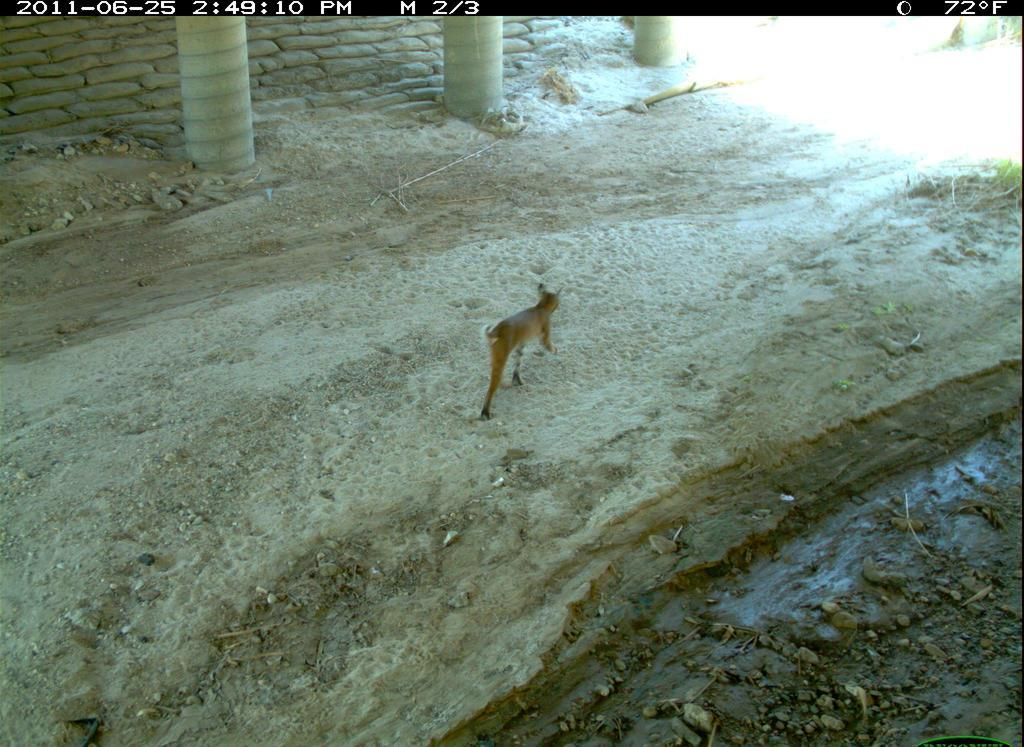bobcat: (468, 280, 588, 424)
